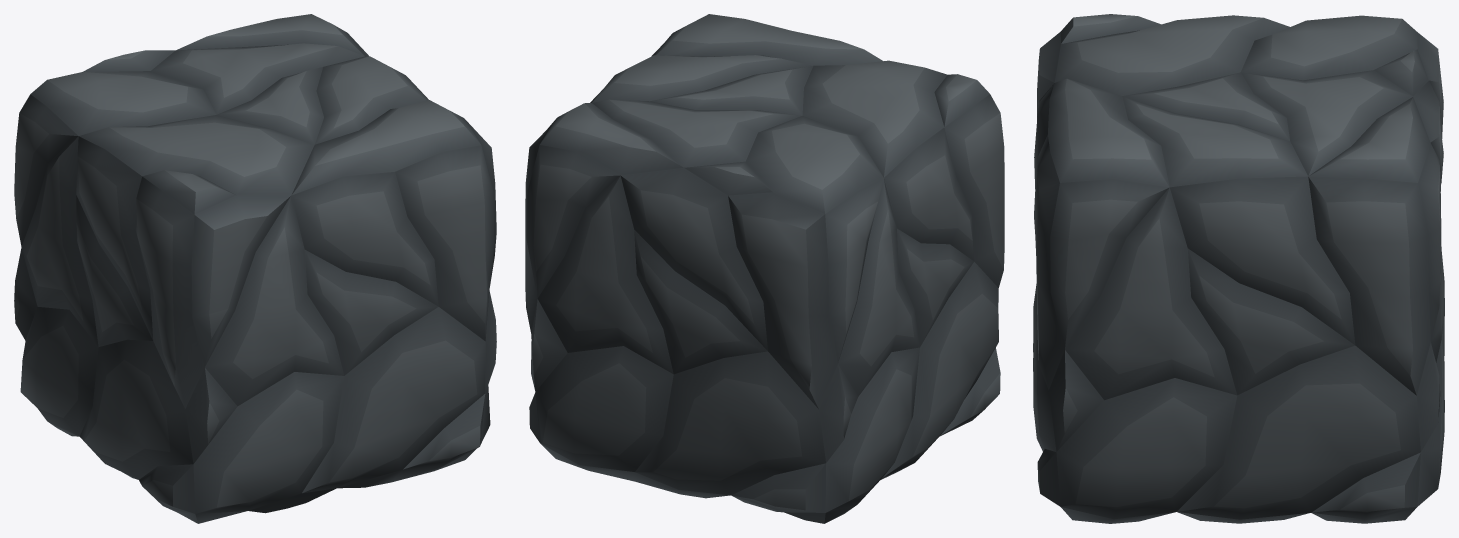
The model's file is stone-dark.glb.
The picture shows the model from 3 angles, left to right: view 1: azimuth 30°, elevation 25°; view 2: azimuth 150°, elevation 25°; view 3: azimuth 270°, elevation 25°; orthographic projection. The views are drawn at different scales.
Visible parts, largest first — view 1: stone_dark; view 2: stone_dark; view 3: stone_dark.
Part boxes in pixels (x1,y1,x2,y2): stone_dark: (14, 14, 496, 523); stone_dark: (525, 14, 1004, 523); stone_dark: (1033, 14, 1444, 523).
Size of the model in its own units: 2.05 by 2.05 by 2.05.
1 material, 1 textured.
